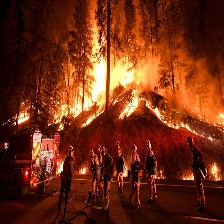fire: (144, 97, 223, 141), (49, 98, 105, 130), (92, 58, 155, 84), (113, 91, 145, 122), (5, 101, 40, 126), (116, 61, 142, 89), (210, 158, 223, 184), (74, 163, 91, 179), (177, 170, 195, 182), (56, 160, 65, 175), (122, 164, 129, 179)
smoke: (175, 54, 216, 104)
